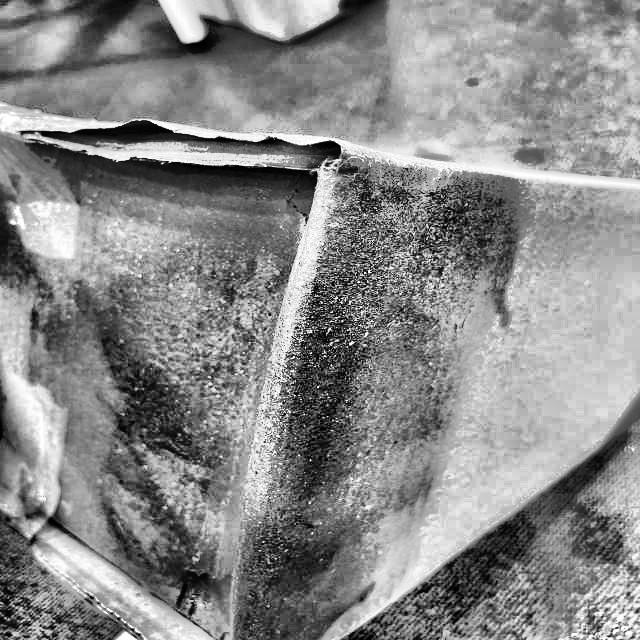box: (0, 94, 639, 639)
wet: (22, 107, 540, 634)
